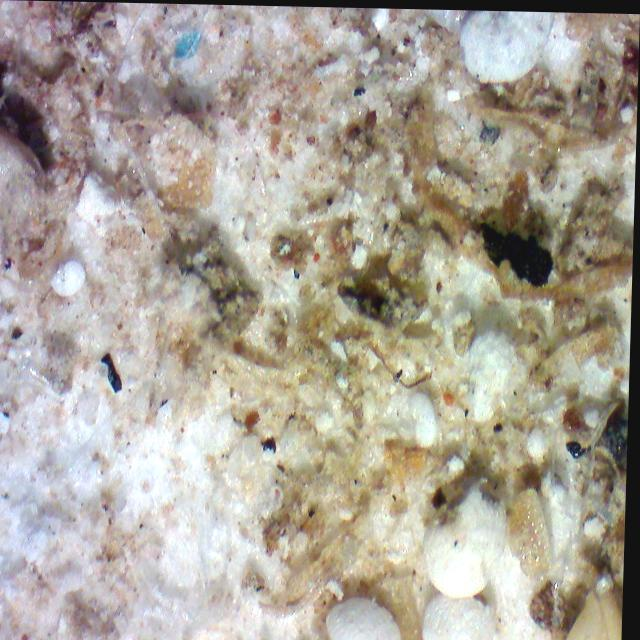microplastic: (170, 25, 204, 67), (243, 409, 267, 433)
